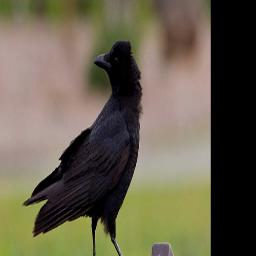Crow: (22, 39, 144, 256)
